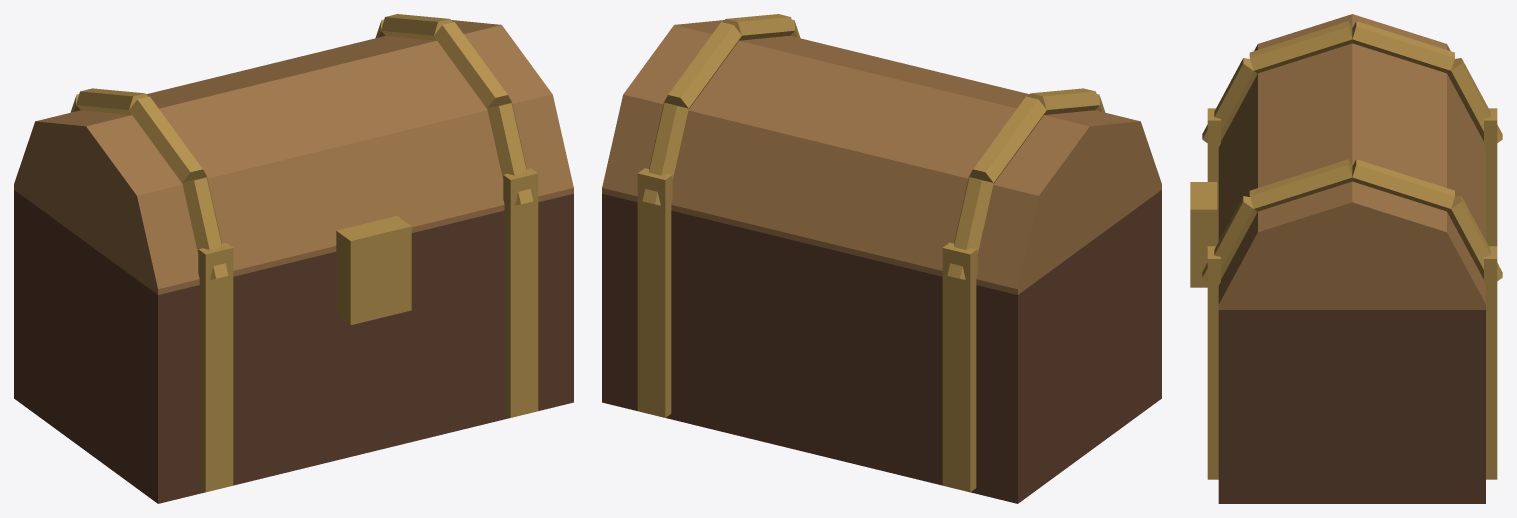
Rendered from PirateCove_TreasureChest_Simple.glb.
3 renders of one model, left to right at view 1: azimuth 30°, elevation 25°; view 2: azimuth 150°, elevation 25°; view 3: azimuth 270°, elevation 25°, orthographic. The views are drawn at different scales.
Visible parts, largest first — view 1: PirateCove_TreasureChest_Simple; view 2: PirateCove_TreasureChest_Simple; view 3: PirateCove_TreasureChest_Simple.
Boxes of the visible parts, left/top/right/bottom form: PirateCove_TreasureChest_Simple: left=14, top=14, right=573, bottom=503; PirateCove_TreasureChest_Simple: left=602, top=14, right=1161, bottom=503; PirateCove_TreasureChest_Simple: left=1190, top=14, right=1502, bottom=503.
Size of the model in its own units: 1.5 by 1.18 by 1.05.
